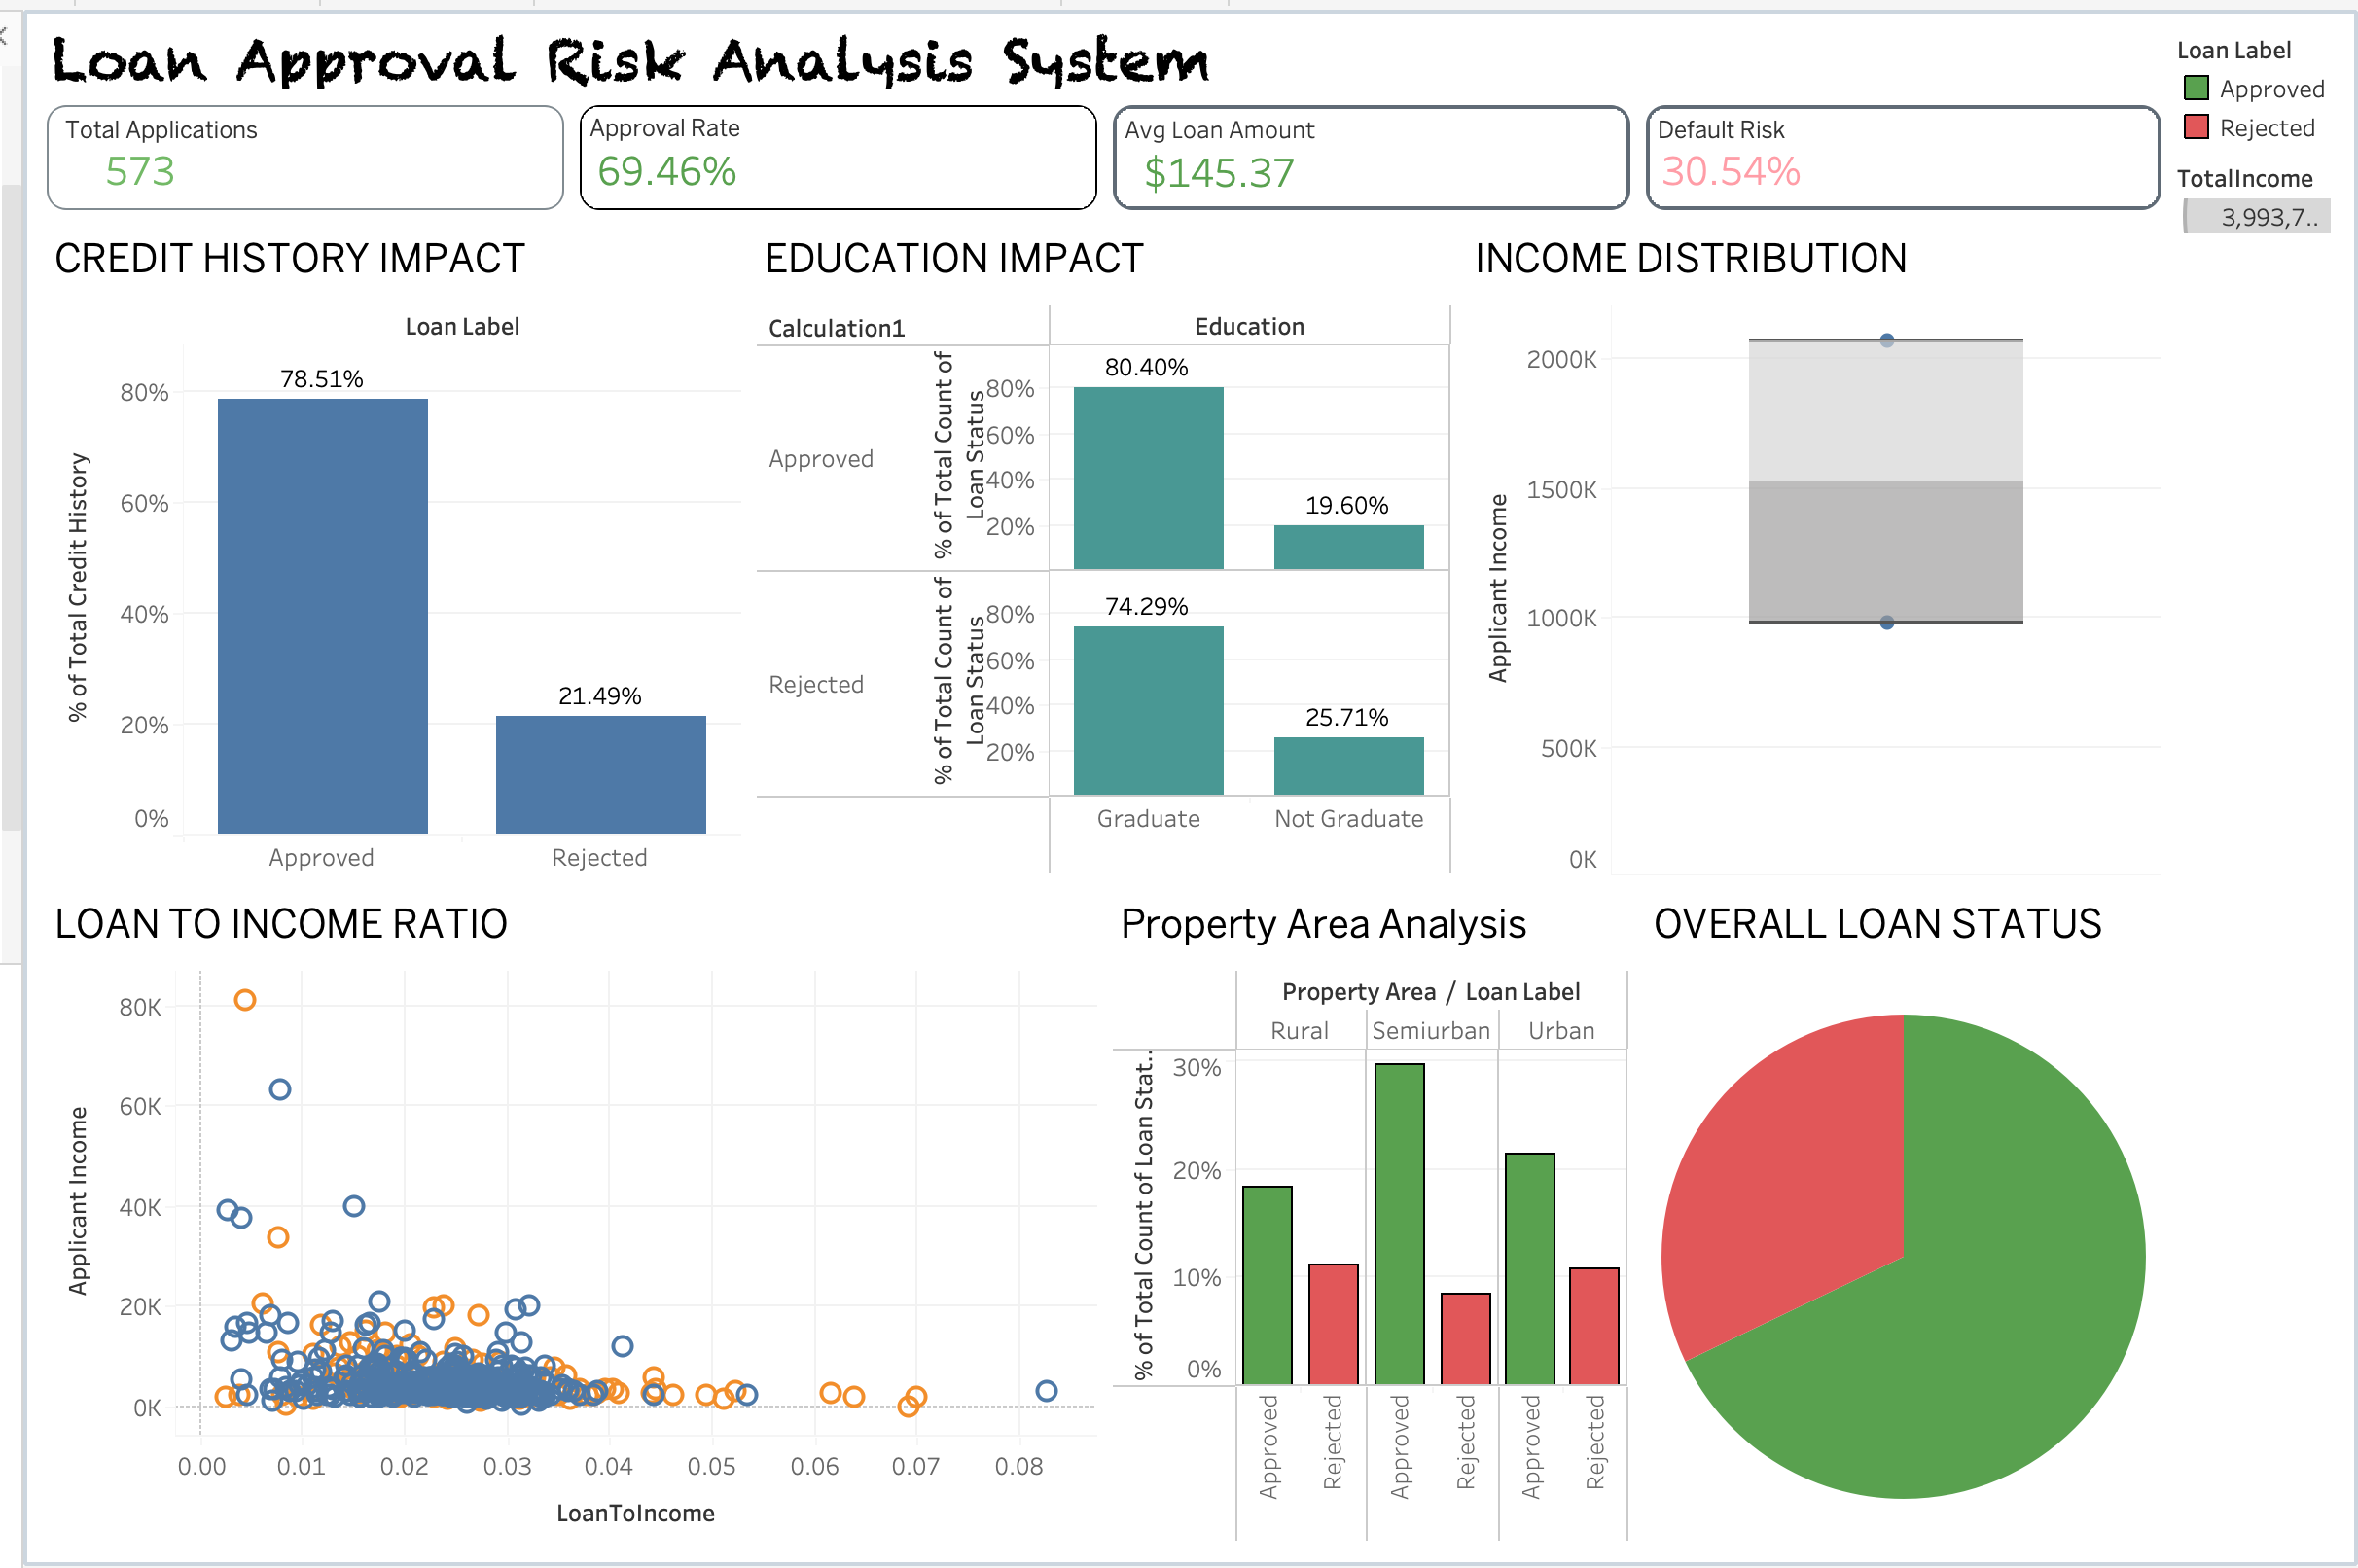

The page's visual inventory and layout, read from the dashboard file:
{"tool":"tableau","page":{"name":"Dashboard 1","canvas":[1200,800],"ordinal":0},"visuals":[{"type":"text","box":[8,8,1095,37]},{"type":"legend","title":"Sheet 5","param":"[federated.07v2o7013696bi13b9lmy0sqwzo0].[none:Calculation_0962278259625991:nk]","box":[1103,8,89,66]},{"type":"worksheet","title":"Total Applications","mark":"Automatic","box":[8,45,274,62]},{"type":"worksheet","title":"Approval Rate","mark":"Automatic","box":[282,45,274,62]},{"type":"worksheet","title":"Avg Loan Amount","mark":"Automatic","box":[556,45,274,62]},{"type":"worksheet","title":"Default Risk","mark":"Automatic","box":[830,45,273,62]},{"type":"legend","title":"Sheet 1","param":"[federated.07v2o7013696bi13b9lmy0sqwzo0].[sum:Calculation_0962278269444106:qk]","box":[1103,74,89,46]},{"type":"worksheet","title":"Sheet 2","mark":"Automatic","cols":["Calculation_0962278259625991"],"box":[8,107,365,342]},{"type":"worksheet","title":"Sheet 4","mark":"Bar","rows":["Calculation_0962278261272585","Loan_Status"],"cols":["Education"],"box":[373,107,365,342]},{"type":"worksheet","title":"Sheet 3","mark":"Circle","rows":["ApplicantIncome"],"box":[738,107,365,342]},{"type":"worksheet","title":"Sheet 6","mark":"Automatic","rows":["ApplicantIncome"],"cols":["Calculation_0962278269833228"],"box":[8,449,548,343]},{"type":"worksheet","title":"Sheet 5","mark":"Automatic","rows":["Loan_Status"],"cols":["Property_Area","Calculation_0962278259625991"],"box":[556,449,274,343]},{"type":"worksheet","title":"Sheet 1","mark":"Pie","box":[830,449,273,343]}]}

Visuals, with their boxes in screenshot pixels (x1, y1, x2, y2), scaled from the page's 1200x800 canvas onto the 2358x1568 screenshot:
text: [x1=16, y1=16, x2=2167, y2=89]
"Sheet 5" legend: [x1=2167, y1=16, x2=2342, y2=145]
"Total Applications" worksheet: [x1=16, y1=89, x2=554, y2=210]
"Approval Rate" worksheet: [x1=554, y1=89, x2=1092, y2=210]
"Avg Loan Amount" worksheet: [x1=1092, y1=89, x2=1631, y2=210]
"Default Risk" worksheet: [x1=1631, y1=89, x2=2167, y2=210]
"Sheet 1" legend: [x1=2167, y1=145, x2=2342, y2=235]
"Sheet 2" worksheet: [x1=16, y1=210, x2=732, y2=880]
"Sheet 4" worksheet (Bar marks): [x1=732, y1=210, x2=1450, y2=880]
"Sheet 3" worksheet (Circle marks): [x1=1450, y1=210, x2=2167, y2=880]
"Sheet 6" worksheet: [x1=16, y1=880, x2=1092, y2=1552]
"Sheet 5" worksheet: [x1=1092, y1=880, x2=1631, y2=1552]
"Sheet 1" worksheet (Pie marks): [x1=1631, y1=880, x2=2167, y2=1552]
